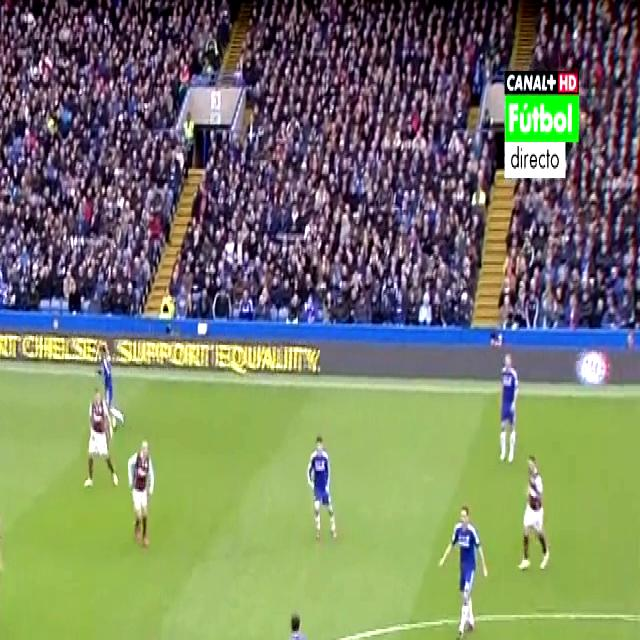referee: (130, 629, 170, 640)
soccer-player: (433, 489, 492, 640), (299, 418, 345, 547), (514, 449, 554, 583), (125, 433, 160, 554), (494, 342, 526, 464), (82, 388, 119, 493), (93, 336, 121, 426), (272, 601, 317, 640), (0, 499, 7, 640)
